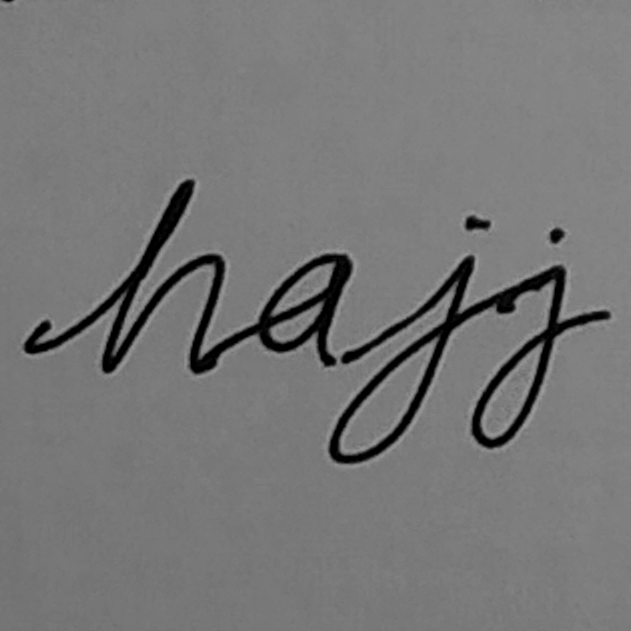a: (253, 248, 356, 375)
h: (98, 172, 233, 379)
j: (324, 212, 496, 467), (465, 224, 572, 456)
